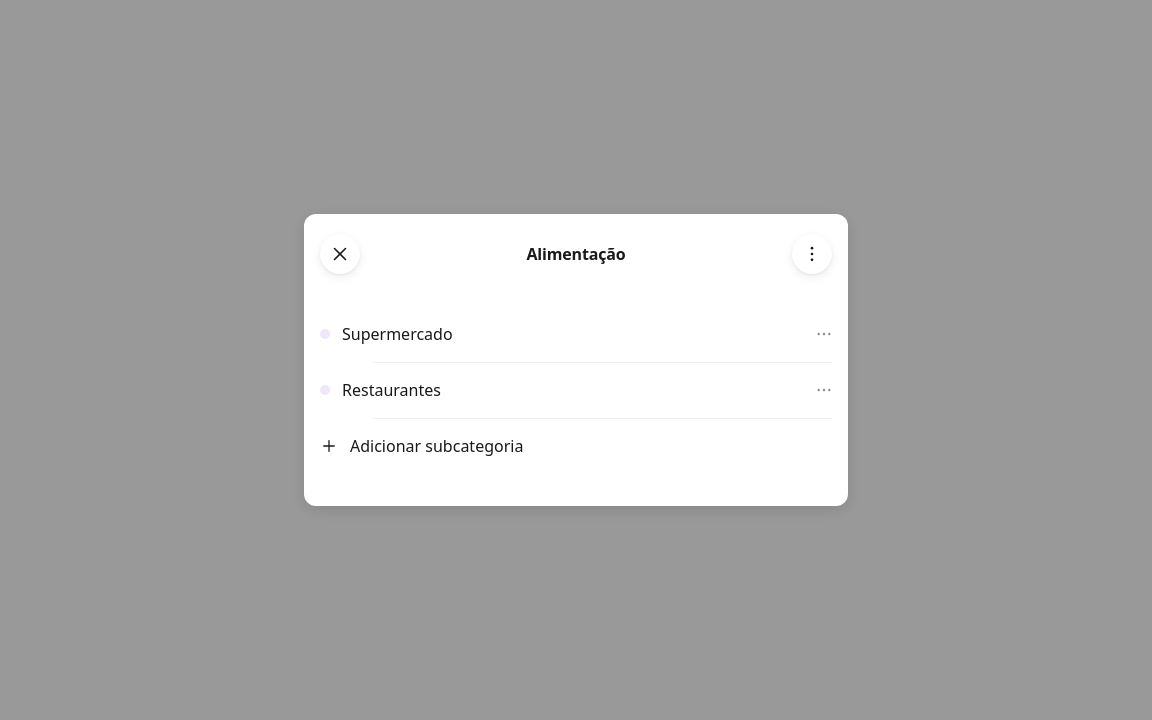
Test: Modal de um grupo de categorias › renomeia o grupo, através do "⋯" do cabeçalho
Expected: the text "Supermercado" is shown, [342,323,453,345]
Click the button named "Opções do grupo". click: point(812, 254)
box: [792,234,832,274]
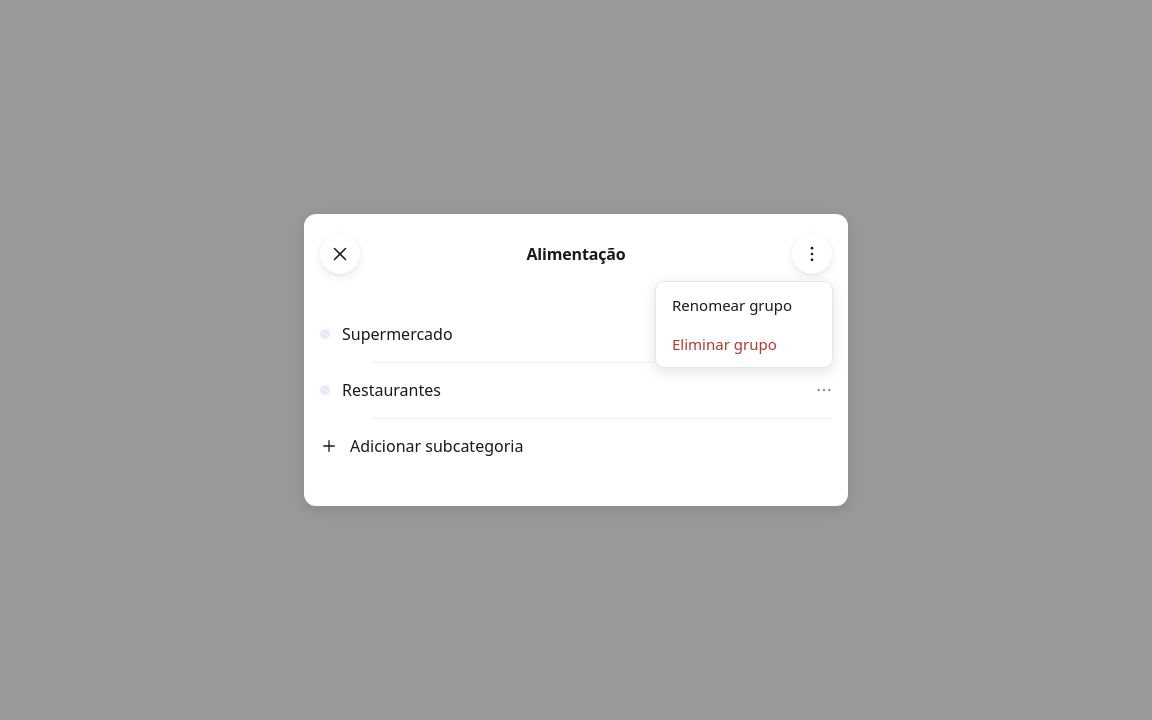
Click the menu item "Renomear grupo". click: point(744, 305)
box: [660,286,828,324]
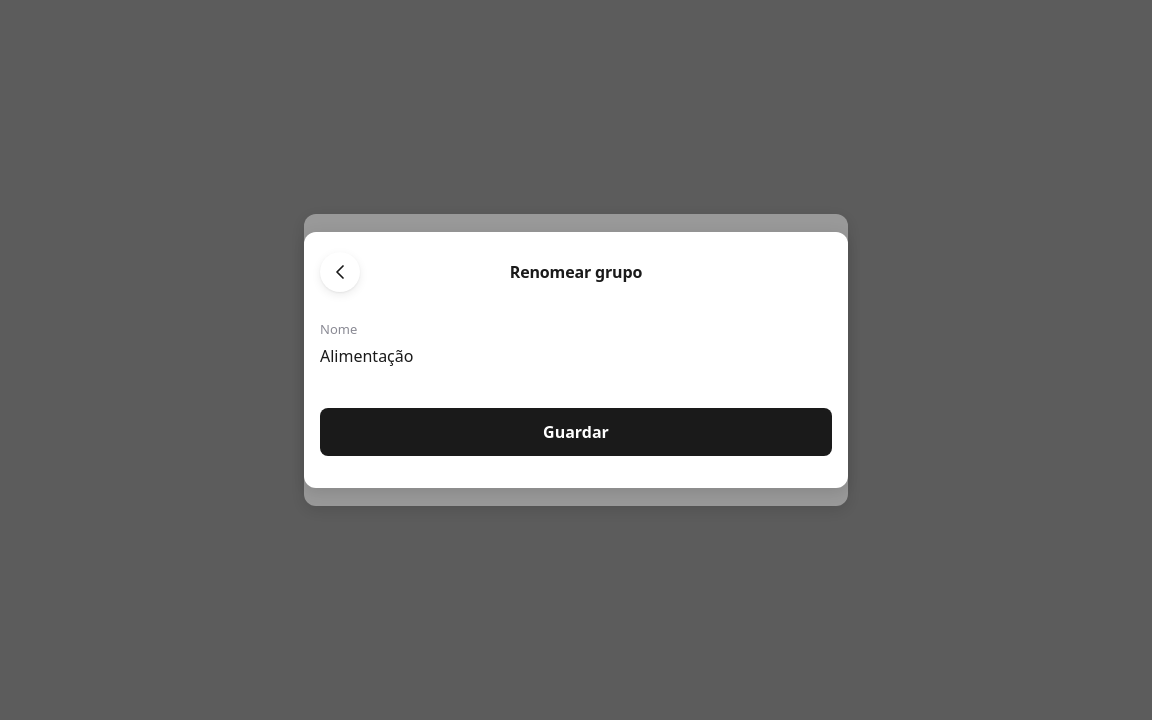
Replace the text in the field labelled "Nome" with "Comida e Bebidas". click: point(576, 356)
box: [320,344,832,368]
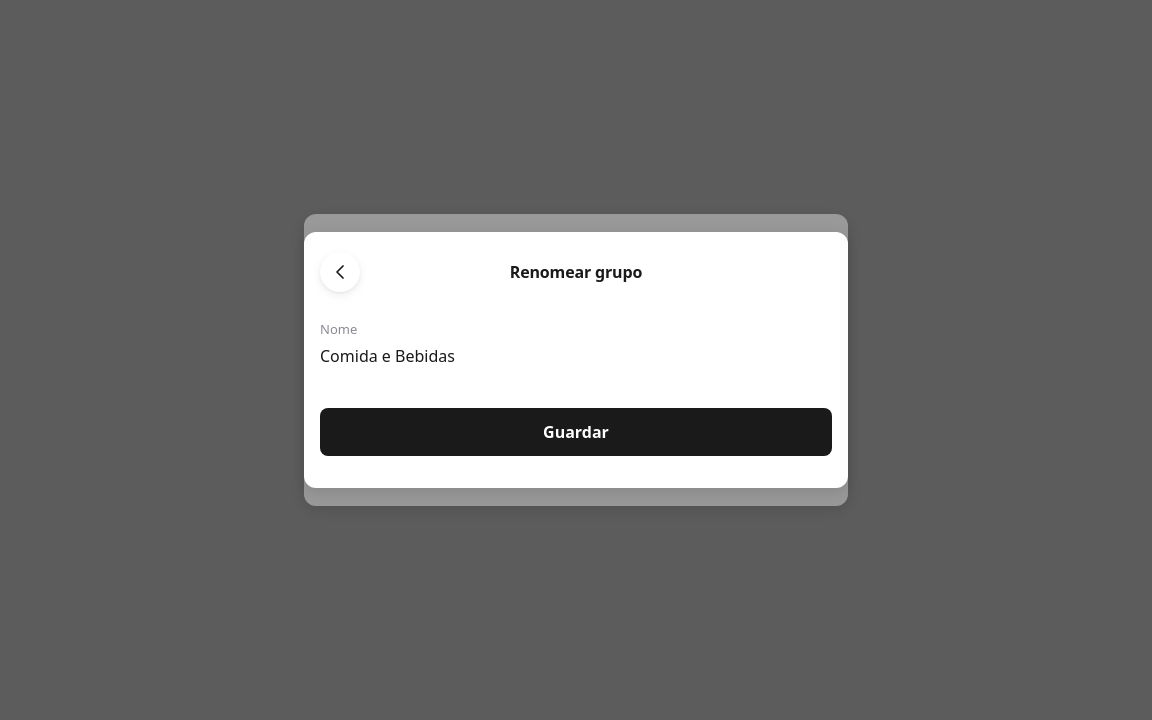
Click the button "Guardar". click: point(576, 432)
box: [320,408,832,456]
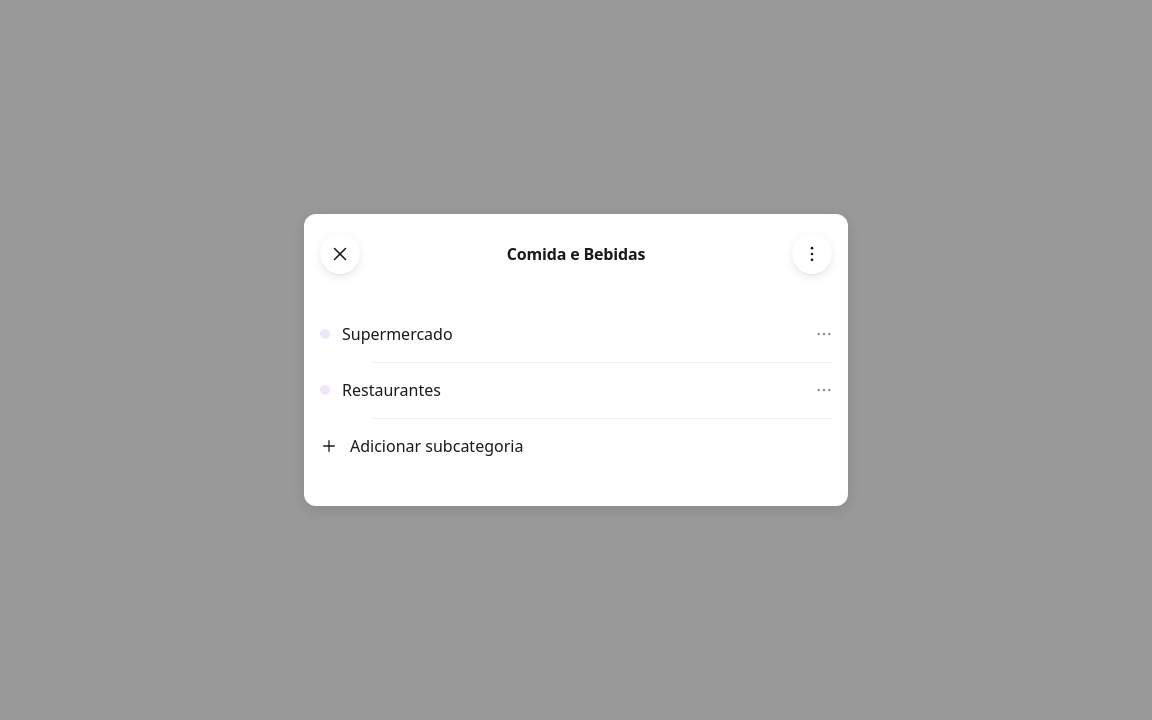
Now the dialog "Comida e Bebidas" is shown, box [304,214,848,506]
